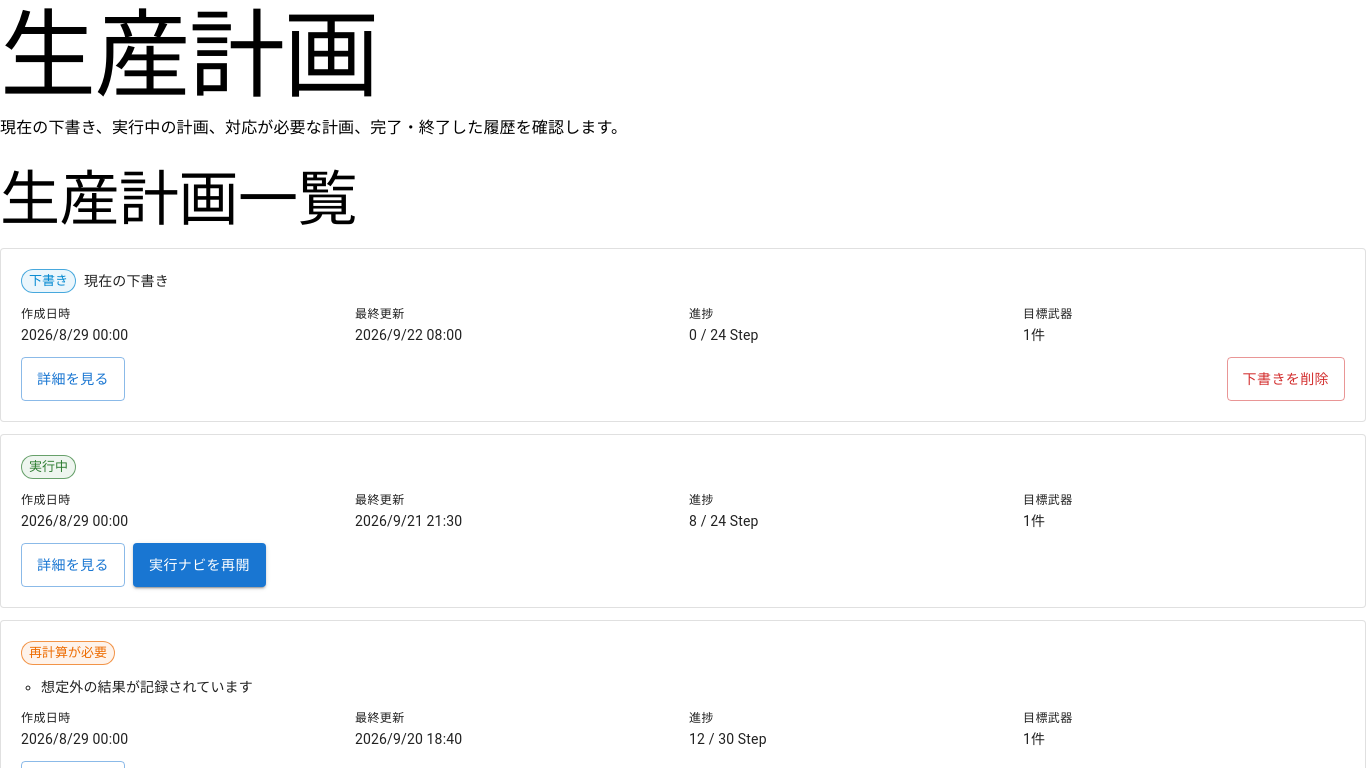
ProductionPlansPage › asks for confirmation and deletes nothing on cancel
Click the button "下書きを削除".
click(1286, 379)  # box [1227, 357, 1345, 401]
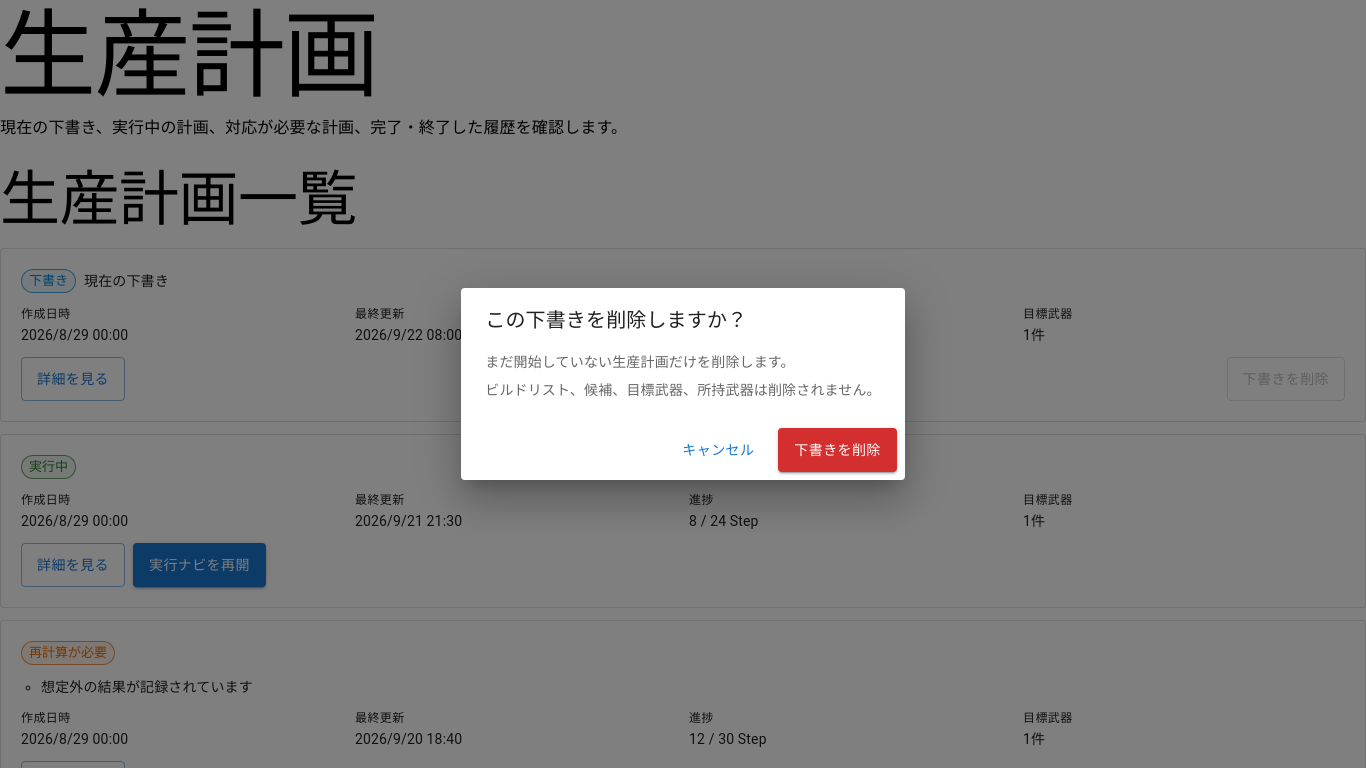
Click the button "キャンセル".
click(718, 450)  # box [674, 428, 762, 472]
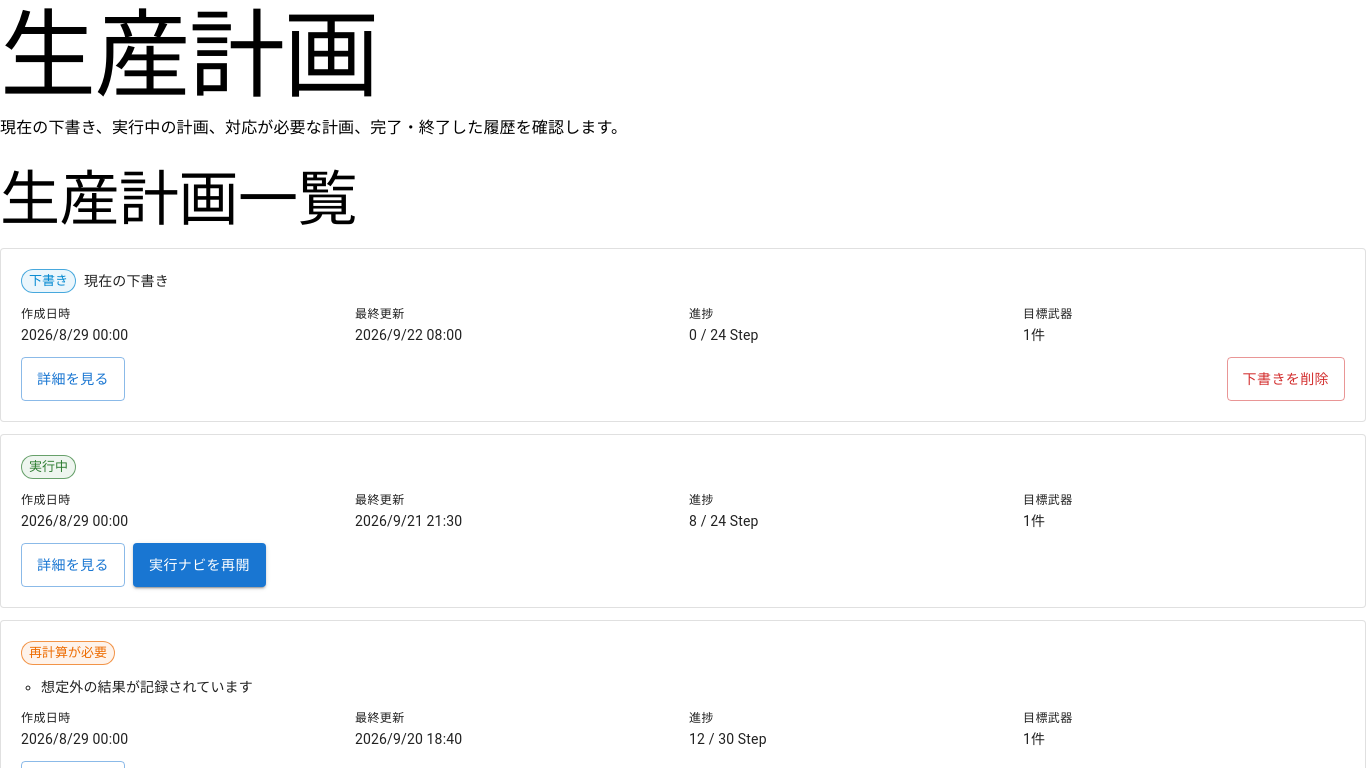
Expected: the heading "下書き 現在の下書き" is shown, [21, 269, 169, 293]
Result: the dialog is gone
